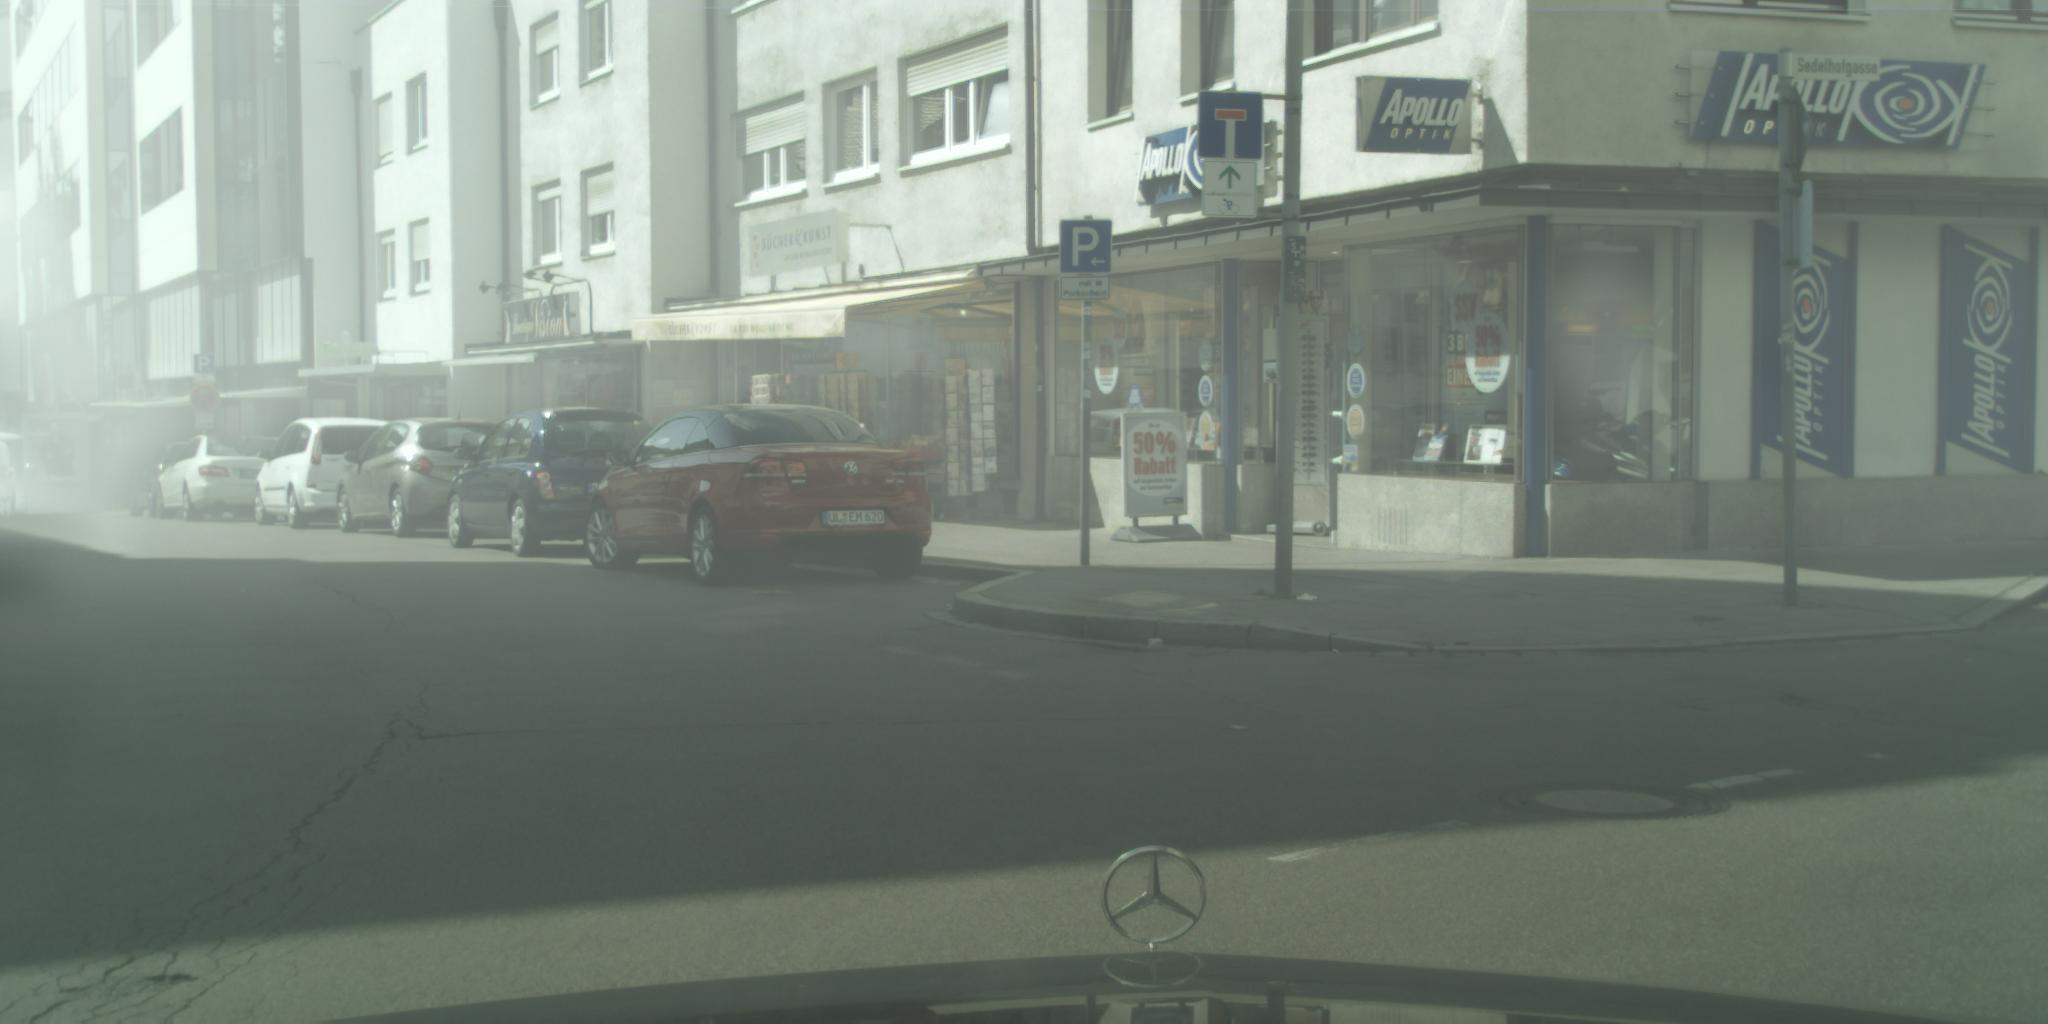car: (583, 405, 934, 588), (448, 408, 660, 558), (338, 418, 504, 538), (253, 418, 398, 530), (155, 434, 282, 522), (127, 443, 195, 519)
